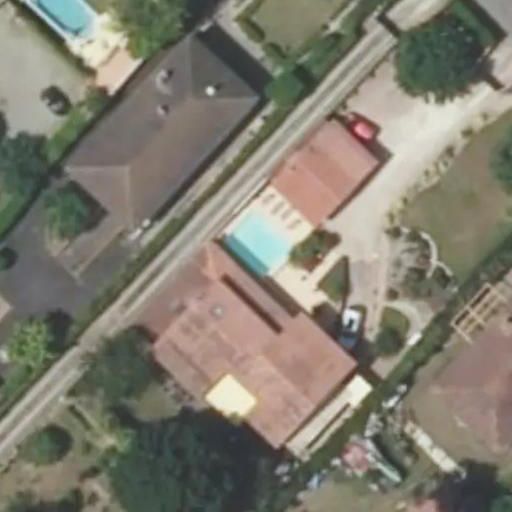pool: (222, 236, 288, 247)
